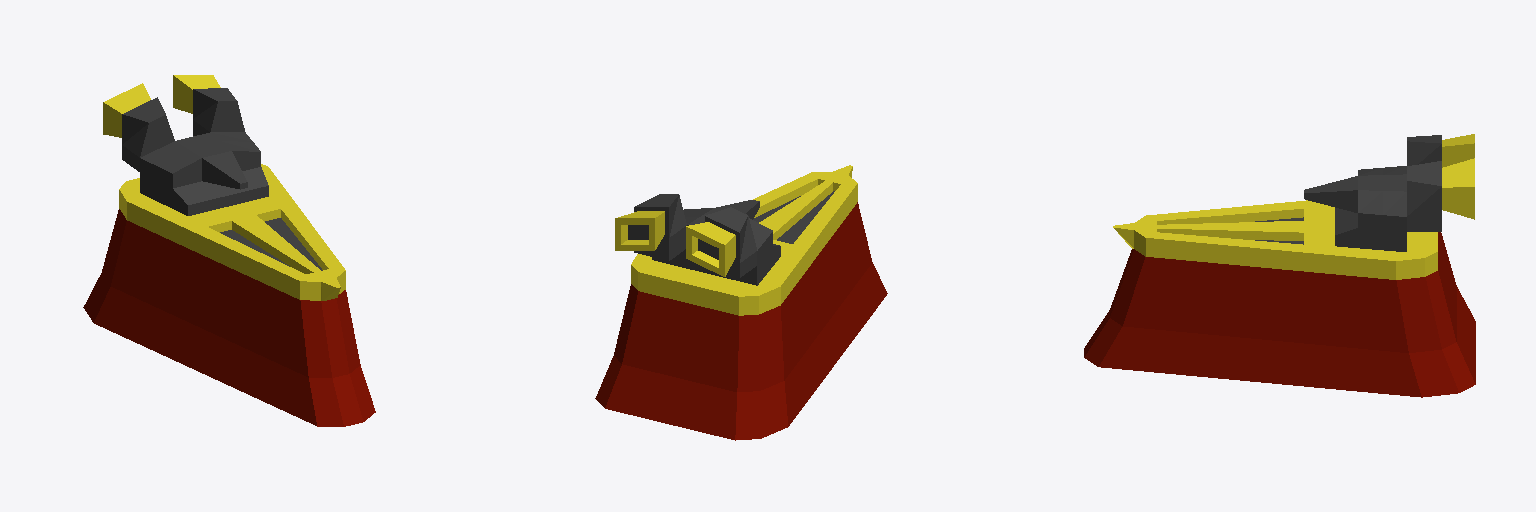
3 renders of one model, left to right at view 1: azimuth 30°, elevation 25°; view 2: azimuth 150°, elevation 25°; view 3: azimuth 270°, elevation 25°, orthographic.
Visible parts, largest first — view 1: Cube.002_Cube.003; view 2: Cube.002_Cube.003; view 3: Cube.002_Cube.003.
Boxes of the visible parts, box(x1,y1,x2,y2) form: Cube.002_Cube.003: box(83, 75, 375, 426); Cube.002_Cube.003: box(595, 165, 887, 440); Cube.002_Cube.003: box(1084, 134, 1475, 397).
Bounding box in the file's own units: 0.5105 × 0.5623 × 0.9472.
Materials: 2 (1 with a texture image).